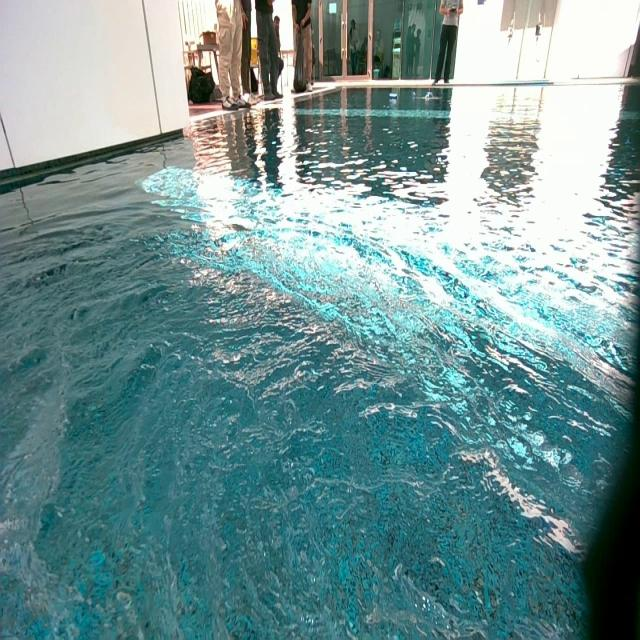Cans: (388, 94, 398, 103), (426, 92, 436, 101), (410, 92, 418, 102)
